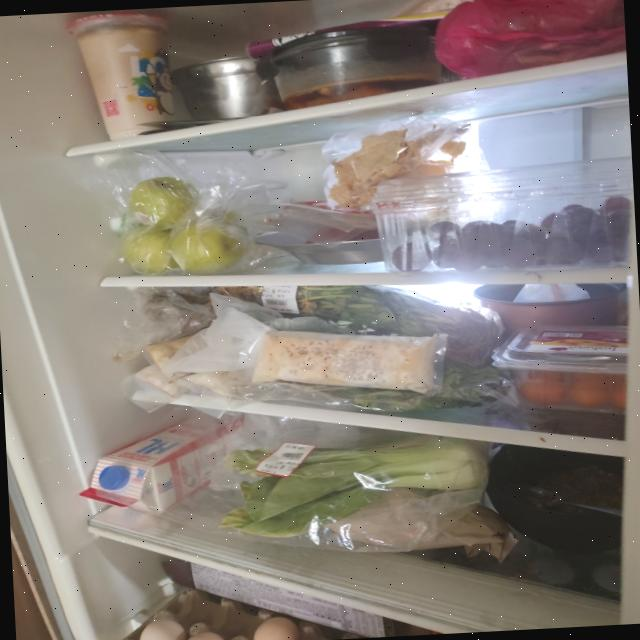apple: (121, 172, 252, 276)
egg: (111, 580, 319, 640)
grape: (388, 195, 638, 274)
leafy_greens: (298, 276, 503, 376)
pakchoy: (215, 431, 491, 541)
tempeh: (250, 324, 441, 404), (132, 331, 256, 404)
